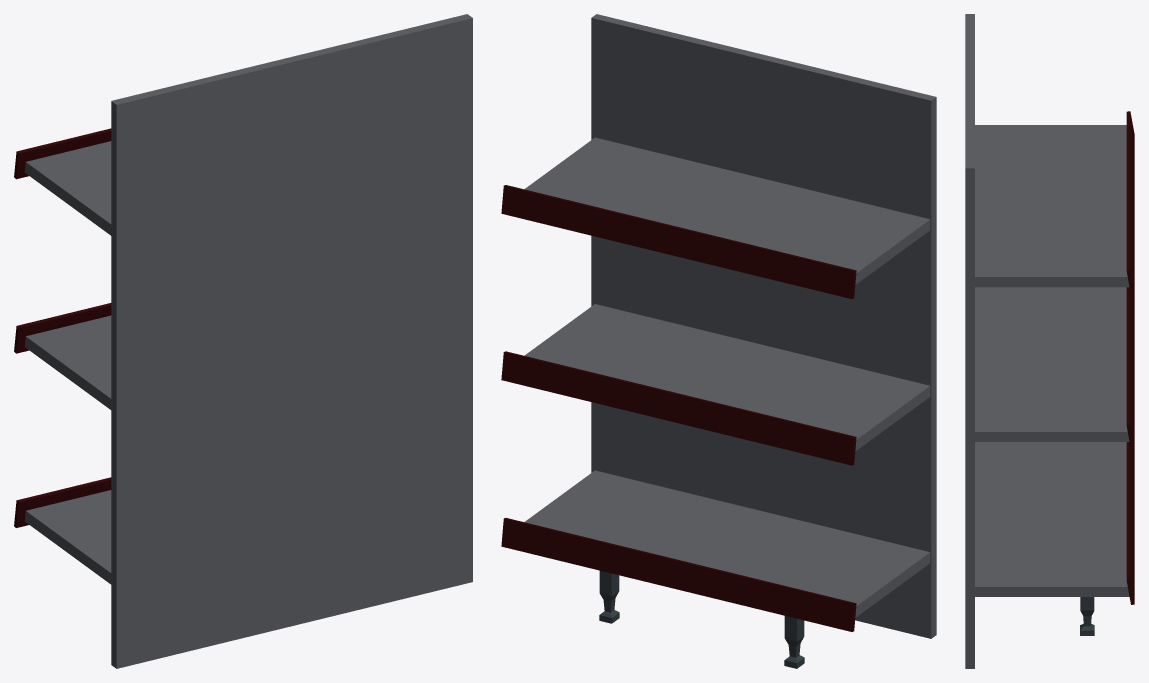
Rendered from ProductShelf02.fbx.
The picture shows the model from 3 angles, left to right: view 1: azimuth 30°, elevation 25°; view 2: azimuth 150°, elevation 25°; view 3: azimuth 270°, elevation 25°; orthographic projection. The views are drawn at different scales.
Visible parts, largest first — view 1: ProductShelf02; view 2: ProductShelf02; view 3: ProductShelf02.
Boxes of the visible parts, bbox=[...] form: ProductShelf02: bbox=[14, 14, 472, 668]; ProductShelf02: bbox=[501, 14, 936, 668]; ProductShelf02: bbox=[965, 14, 1134, 668].
Size of the model in its own units: 136 by 200 by 61.41.
